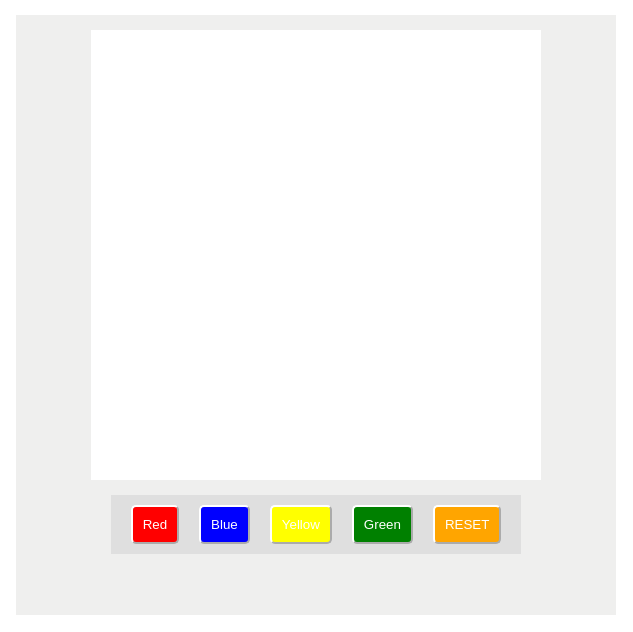
it: Testing buttons › test blue btn
This screenshot has width=633, height=632.
Step 1. Click the button with test id "blue" → (224, 524), box [199,505,250,544]
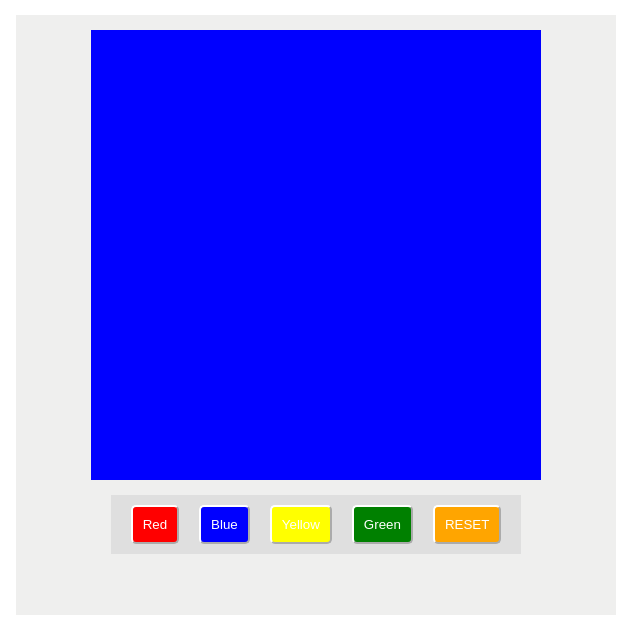
Result: the element with test id "blue-card" is shown at [91,30,541,480]
